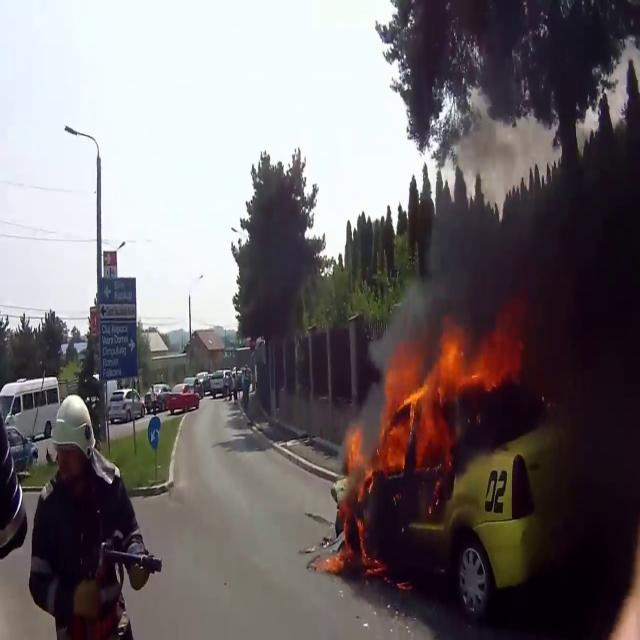Fire: (374, 325, 500, 470)
Smoke: (440, 90, 640, 590)
